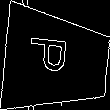P_E: (32, 40, 80, 82)
